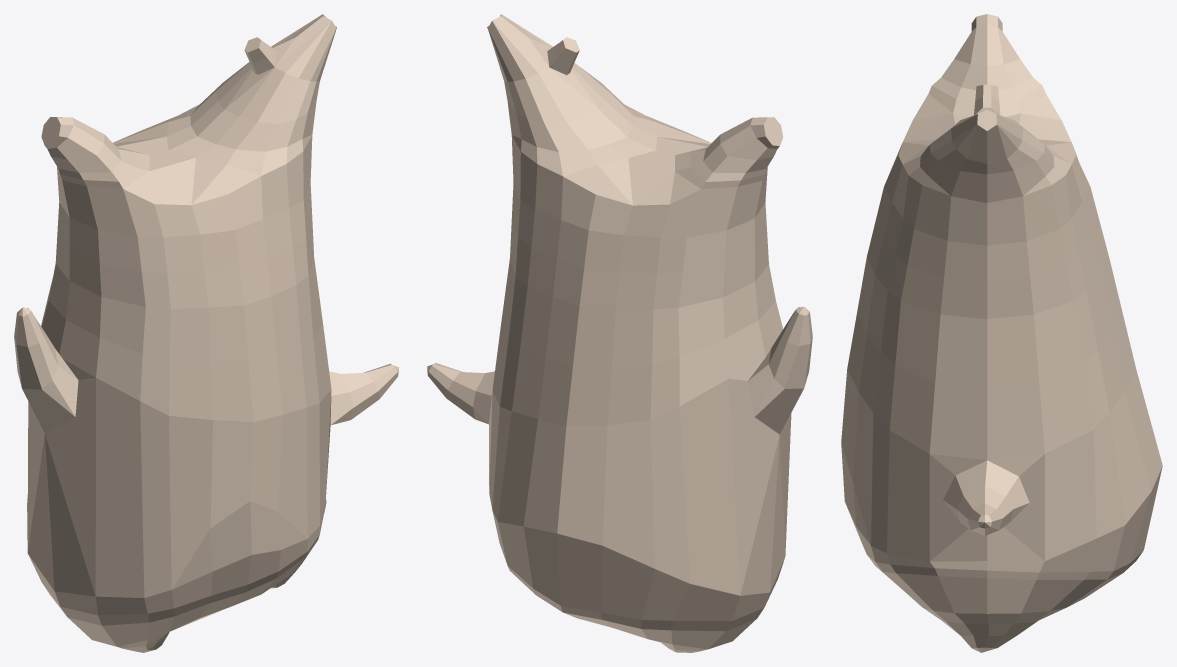
Rendered from frame_0091.obj.
The picture shows the model from 3 angles, left to right: view 1: azimuth 30°, elevation 25°; view 2: azimuth 150°, elevation 25°; view 3: azimuth 270°, elevation 25°; orthographic projection.
Visible parts, largest first — view 1: korok; view 2: korok; view 3: korok.
Part boxes in pixels (left/top/right/bottom): korok: left=14, top=14, right=398, bottom=652; korok: left=427, top=14, right=812, bottom=652; korok: left=841, top=14, right=1162, bottom=652.
Size of the model in its own units: 1.5 by 2.2 by 1.07.
